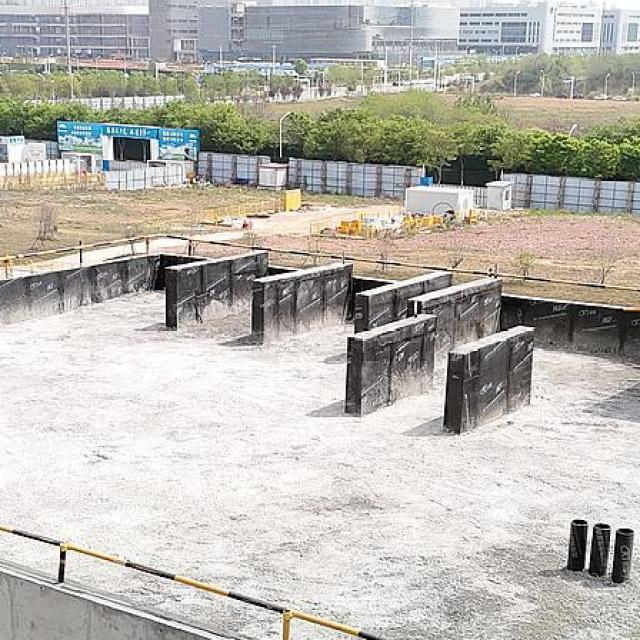edge_guardrail: (0, 524, 387, 640), (0, 233, 640, 293)
